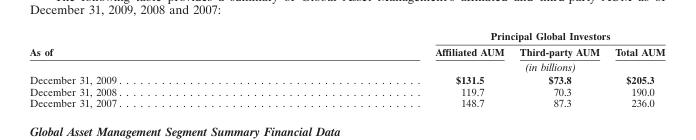table: (28, 29, 664, 109)
table column: (28, 29, 277, 109), (277, 29, 511, 109), (511, 29, 606, 109), (606, 29, 664, 109)
table column header: (28, 29, 664, 72)
table row: (28, 43, 664, 58), (28, 29, 664, 43), (28, 58, 664, 72), (28, 72, 664, 85), (28, 96, 664, 109), (28, 85, 664, 96)
table spanning cell: (28, 29, 277, 72), (277, 29, 664, 43), (277, 58, 664, 72)
